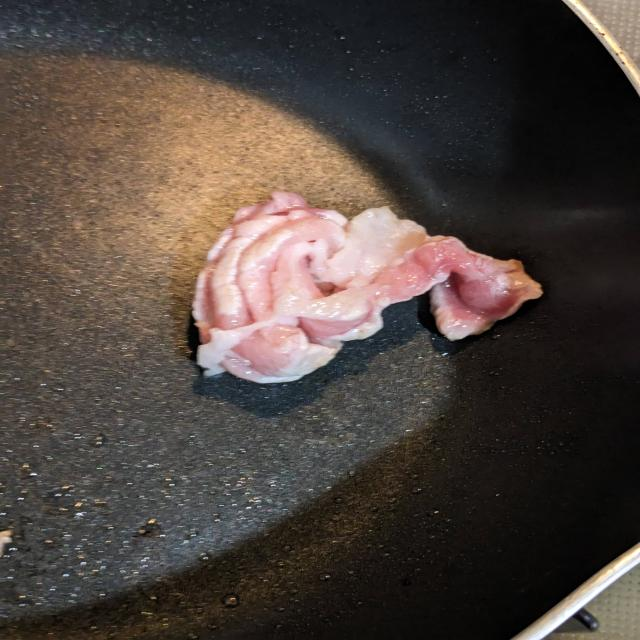NG undercooked pork,: (181, 183, 551, 390)
